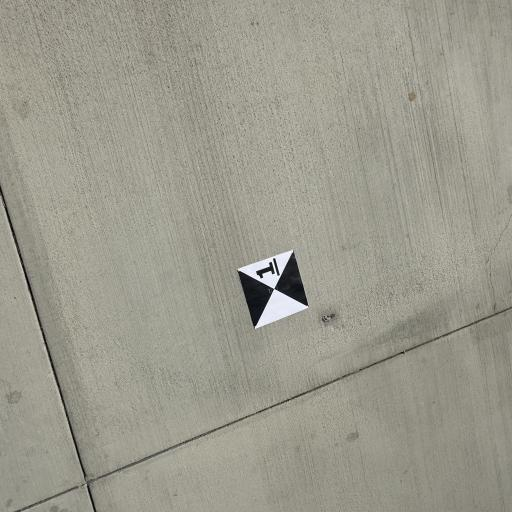target1: (230, 246, 312, 328)
